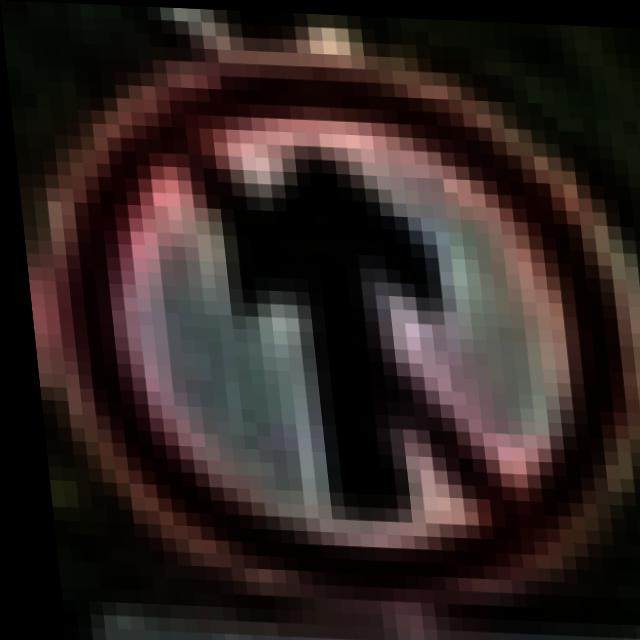STRAIGHT_PROHIBITED: (2, 26, 640, 609)
